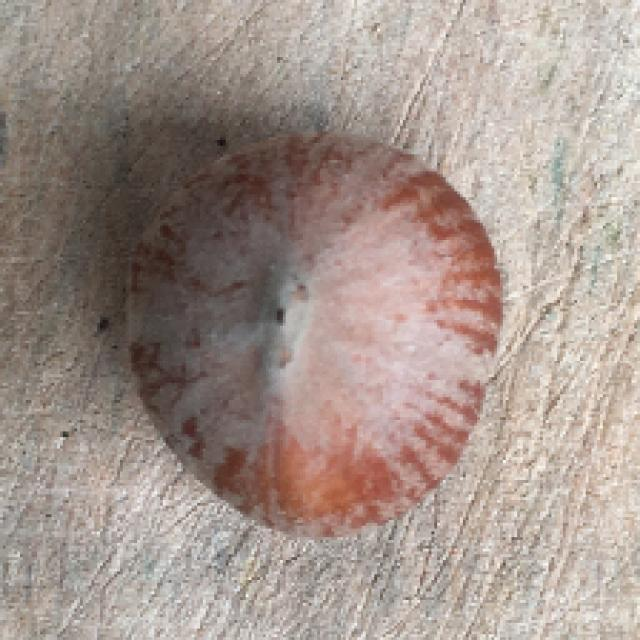qualityHazelnut: (132, 128, 503, 536)
